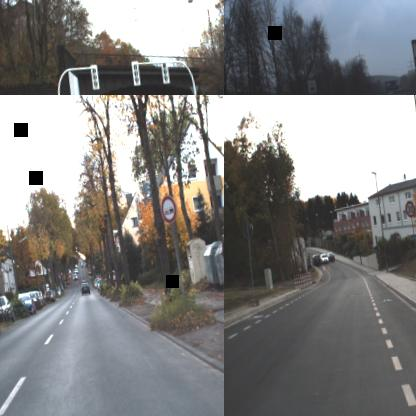no overtaking (trucks): (159, 194, 178, 224)
restriction ends: (301, 56, 317, 80)
speed limit 30: (403, 199, 416, 218)
